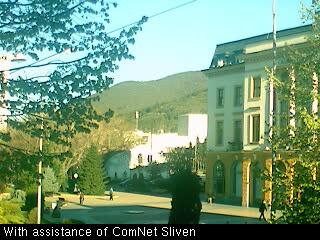person: (258, 200, 267, 222), (207, 192, 214, 206), (78, 190, 84, 205), (109, 187, 114, 201)
